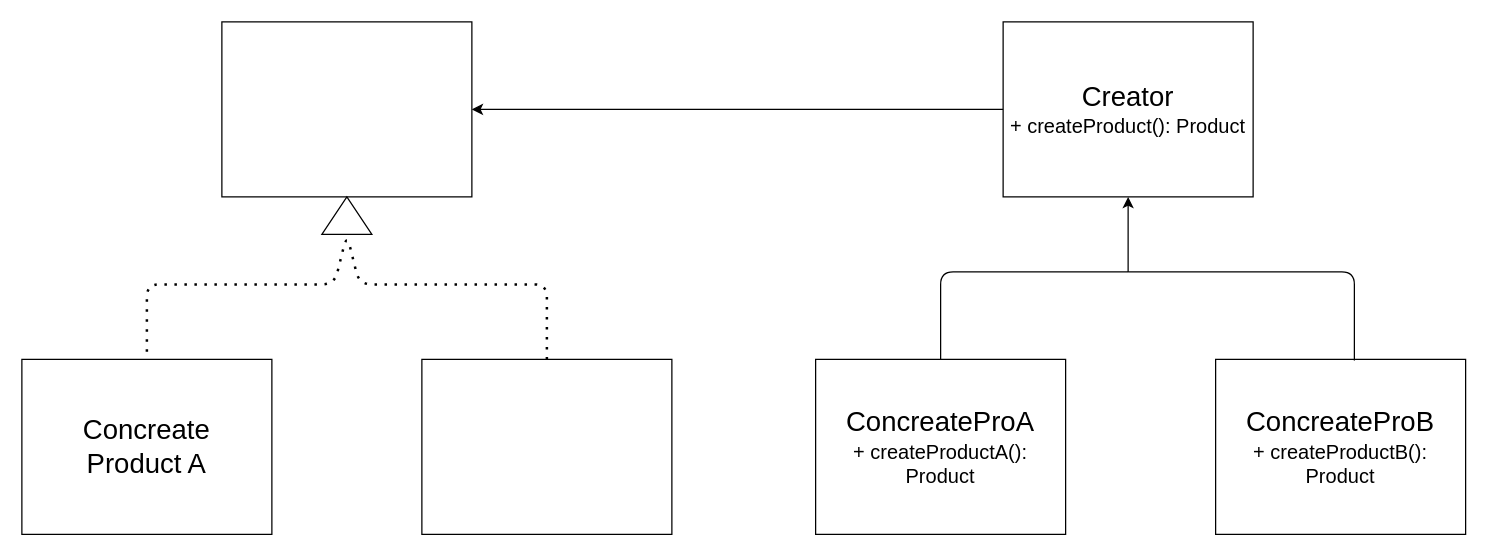
The diagram is 1488 pixels wide and 556 high, and some of its shapes have lost their labels. The shapes that lost their labels are listed below. From the top down, each one's centre as x and y in pixels, then its label:
the point at 346,109: <Interface> Product + execute()
the point at 546,446: Concreate Product B
